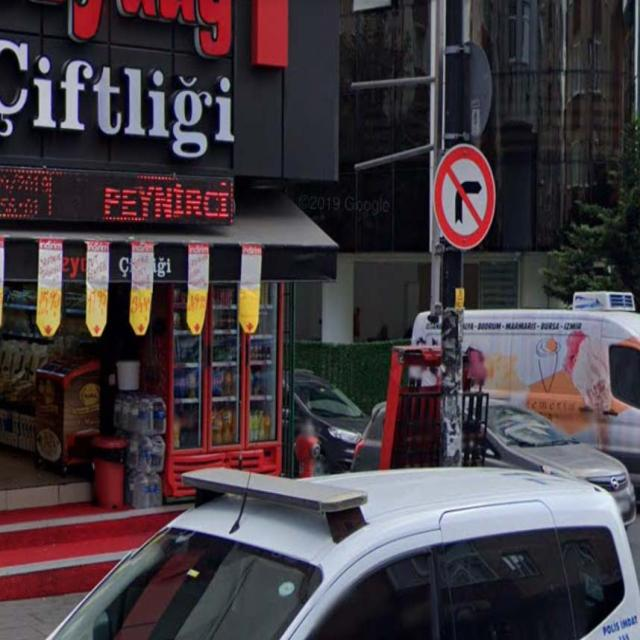sagadonulmez: (435, 144, 496, 252)
